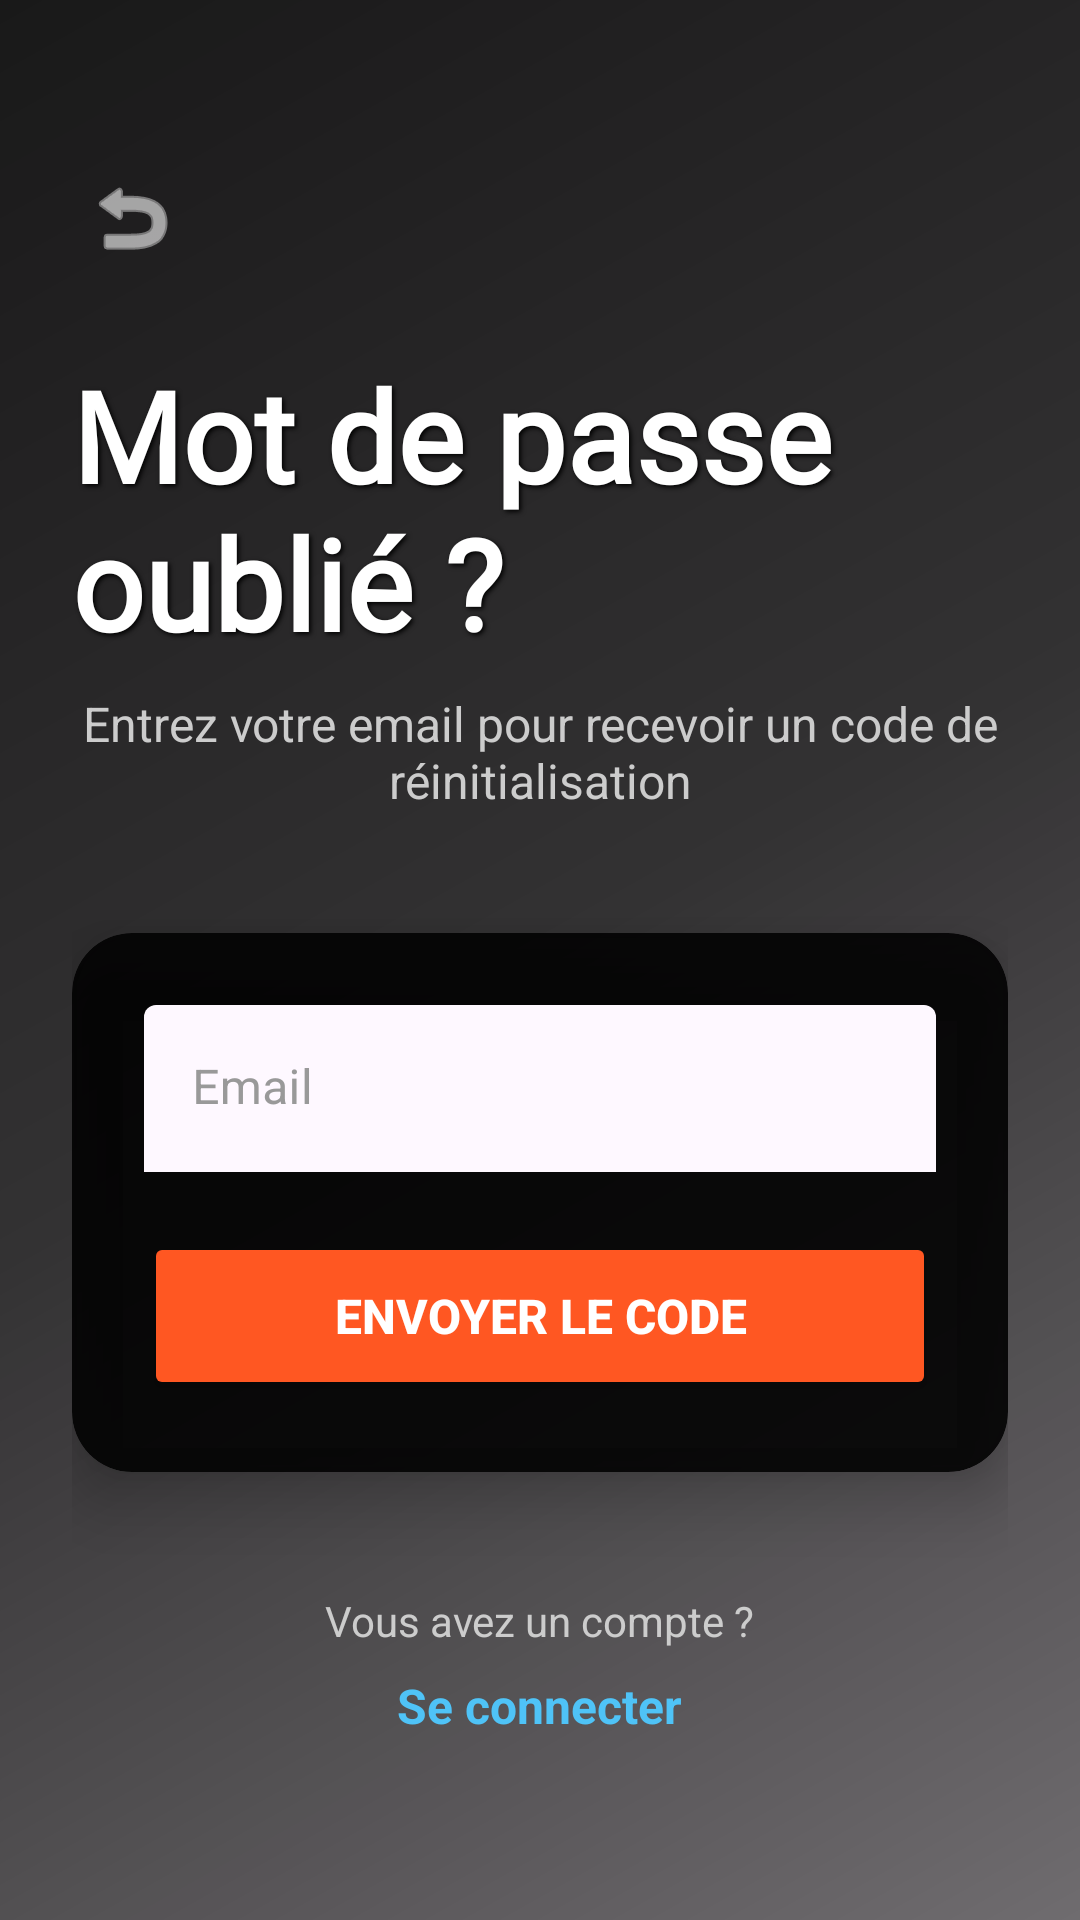

Where to tap for icons on this 1080w x 1920h app screen, as (x,y):
revert: (133,218)
